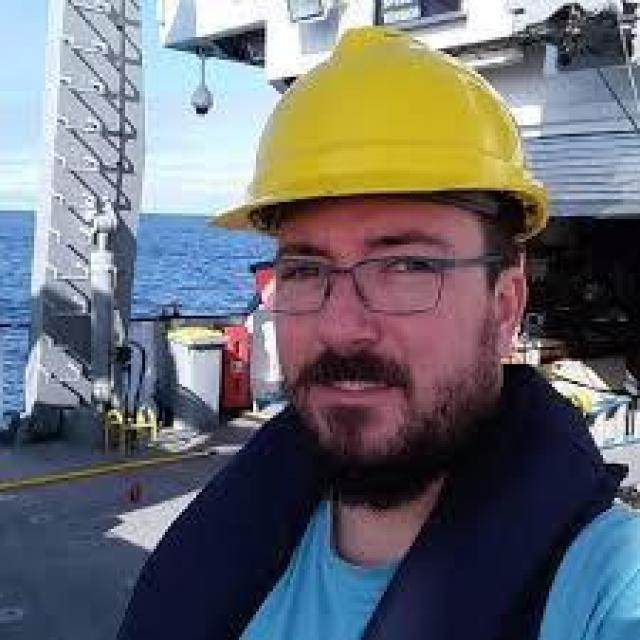helmet: (208, 26, 549, 228)
